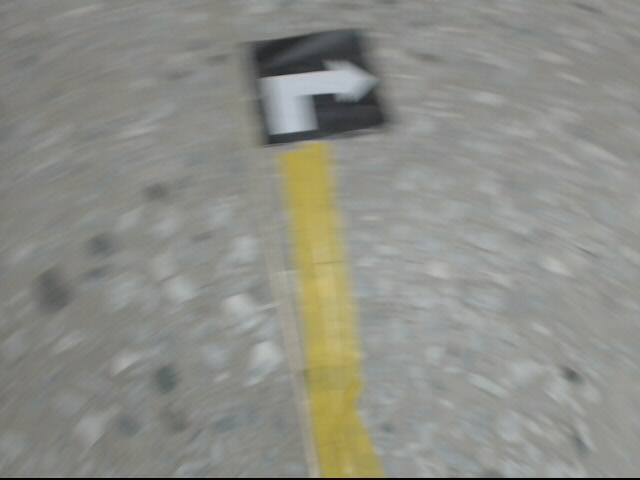right: (241, 26, 391, 147)
